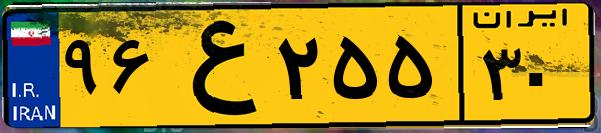0: (525, 38, 570, 115)
2: (270, 28, 330, 110)
3: (475, 38, 525, 113)
5: (385, 28, 445, 110), (330, 28, 385, 110)
6: (110, 28, 158, 98)
9: (57, 26, 110, 100)
ع: (158, 12, 270, 120)
